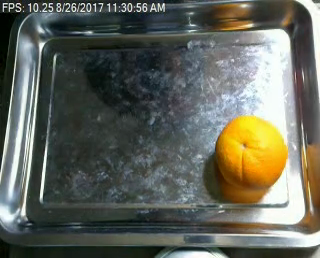Orange: (215, 113, 289, 187)
